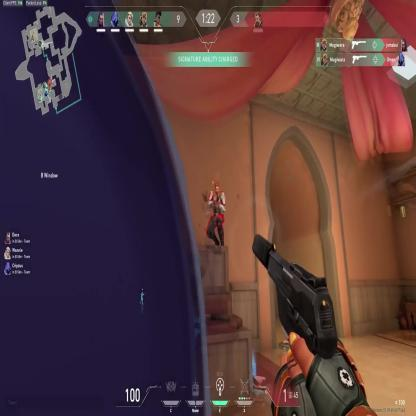enemy: (205, 180, 227, 250)
enemy_head: (212, 182, 220, 199)
